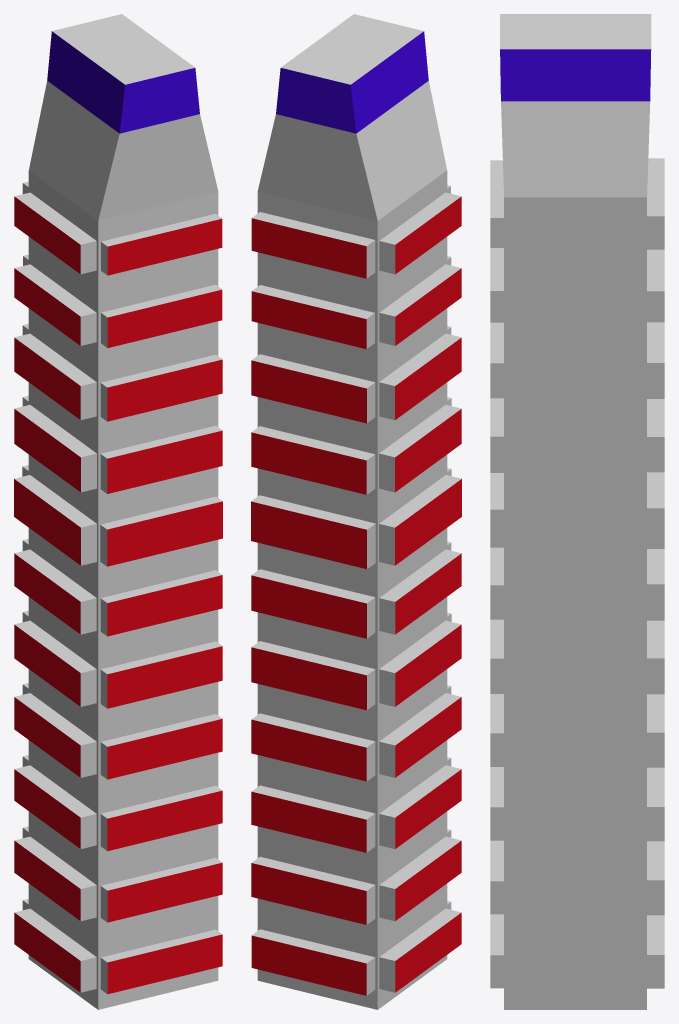
3 renders of one model, left to right at view 1: azimuth 30°, elevation 25°; view 2: azimuth 150°, elevation 25°; view 3: azimuth 270°, elevation 25°, orthographic. The views are drawn at different scales.
Parts seen in each view (by area): view 1: Cube.062; view 2: Cube.062; view 3: Cube.062.
Boxes of the visible parts, bbox=[...] form: Cube.062: bbox=[14, 14, 222, 1009]; Cube.062: bbox=[251, 14, 461, 1009]; Cube.062: bbox=[490, 14, 664, 1009].
Bounding box in the file's own units: 622 × 4017 × 670.
